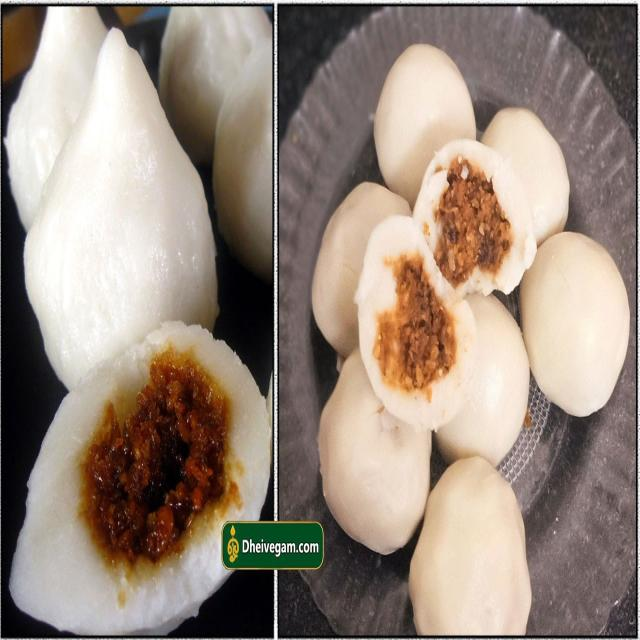poorna kolukattai: (315, 34, 626, 640)
